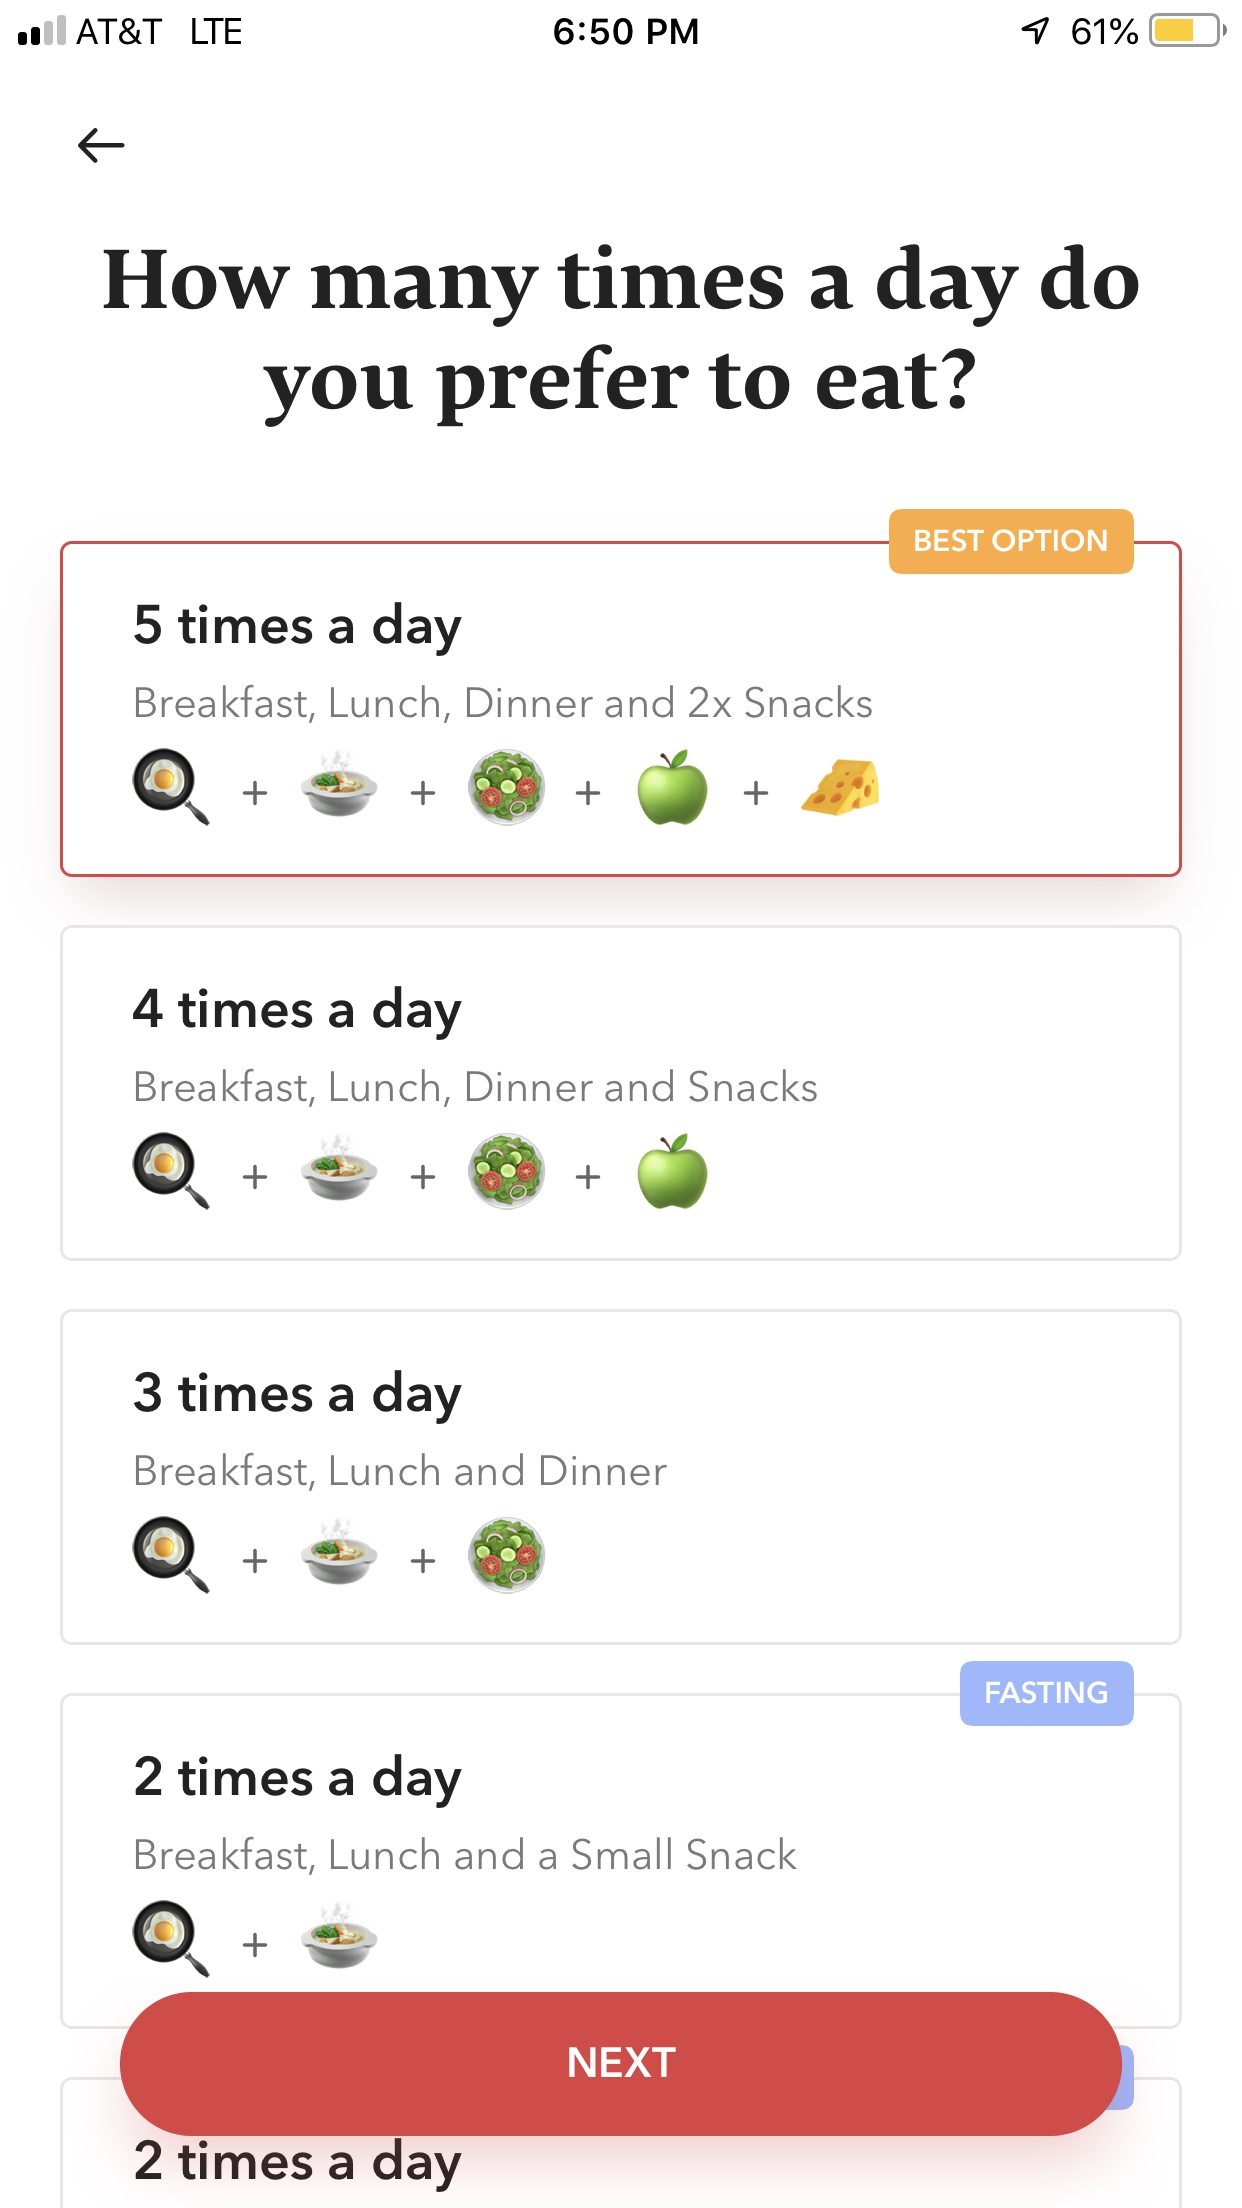Icon: (77, 127, 126, 164), (409, 779, 437, 805), (409, 1165, 437, 1190), (409, 1548, 437, 1574), (243, 781, 268, 807), (576, 779, 602, 805), (743, 779, 769, 805), (243, 1165, 268, 1190), (575, 1165, 601, 1190), (243, 1932, 268, 1958), (244, 1548, 268, 1574)
Image: (132, 748, 212, 828), (132, 1131, 212, 1212), (132, 1515, 212, 1595), (132, 1899, 211, 1979), (469, 749, 547, 828), (469, 1133, 547, 1212), (469, 1516, 547, 1595), (637, 1133, 710, 1212), (637, 749, 710, 826), (300, 1134, 379, 1203), (300, 751, 379, 817), (300, 1520, 379, 1586), (300, 1905, 379, 1970), (801, 760, 881, 817)
Text: (103, 244, 1140, 429), (135, 685, 873, 725), (136, 1068, 817, 1109), (136, 1835, 798, 1876), (136, 1451, 667, 1492), (133, 602, 464, 658), (133, 1369, 463, 1425), (135, 1753, 463, 1809), (136, 2137, 464, 2193), (133, 986, 463, 1040)
TextButton: (120, 1991, 1124, 2137), (889, 508, 1134, 575), (960, 1661, 1134, 1727)
UpperTaskBar: (2, 2, 1242, 49)
